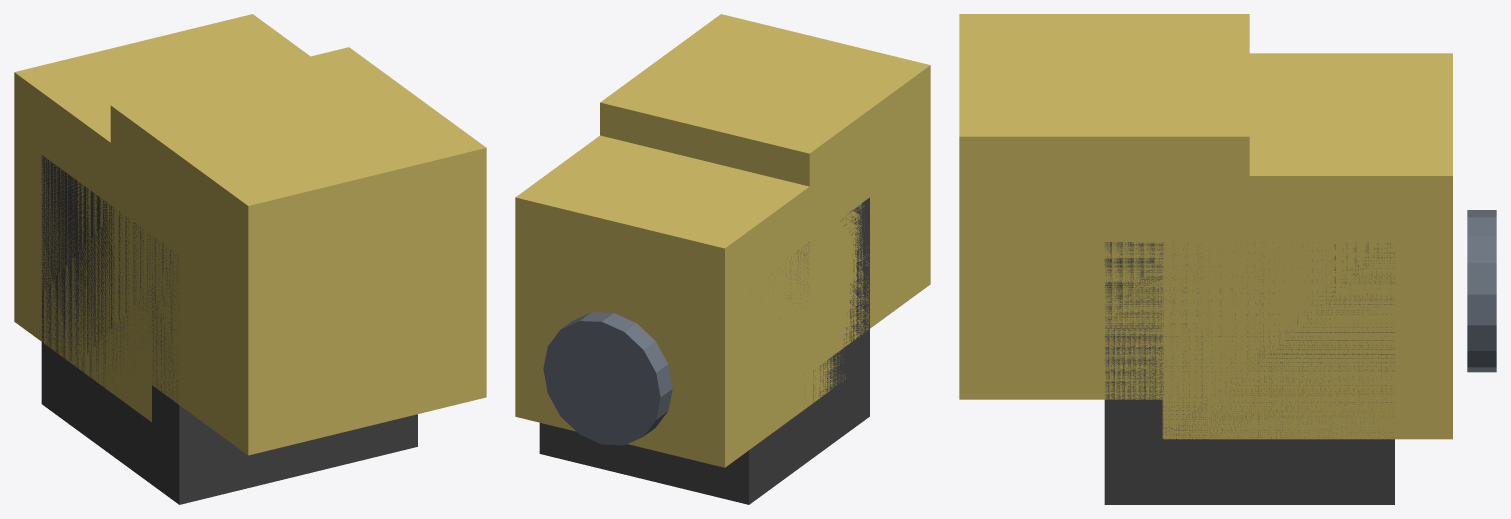
Rendered from veh_scooter_yellow.glb.
3 views of the same model, side by side, from view 1: azimuth 30°, elevation 25°; view 2: azimuth 150°, elevation 25°; view 3: azimuth 270°, elevation 25° (orthographic). The views are drawn at different scales.
Parts seen in each view (by area): view 1: world; view 2: world; view 3: world.
Boxes of the visible parts, x1,y1,x2,y2 form: world: (14,14,486,504); world: (515,14,930,504); world: (959,14,1496,504).
Bounding box in the file's own units: 1 × 1.4 × 1.85.
